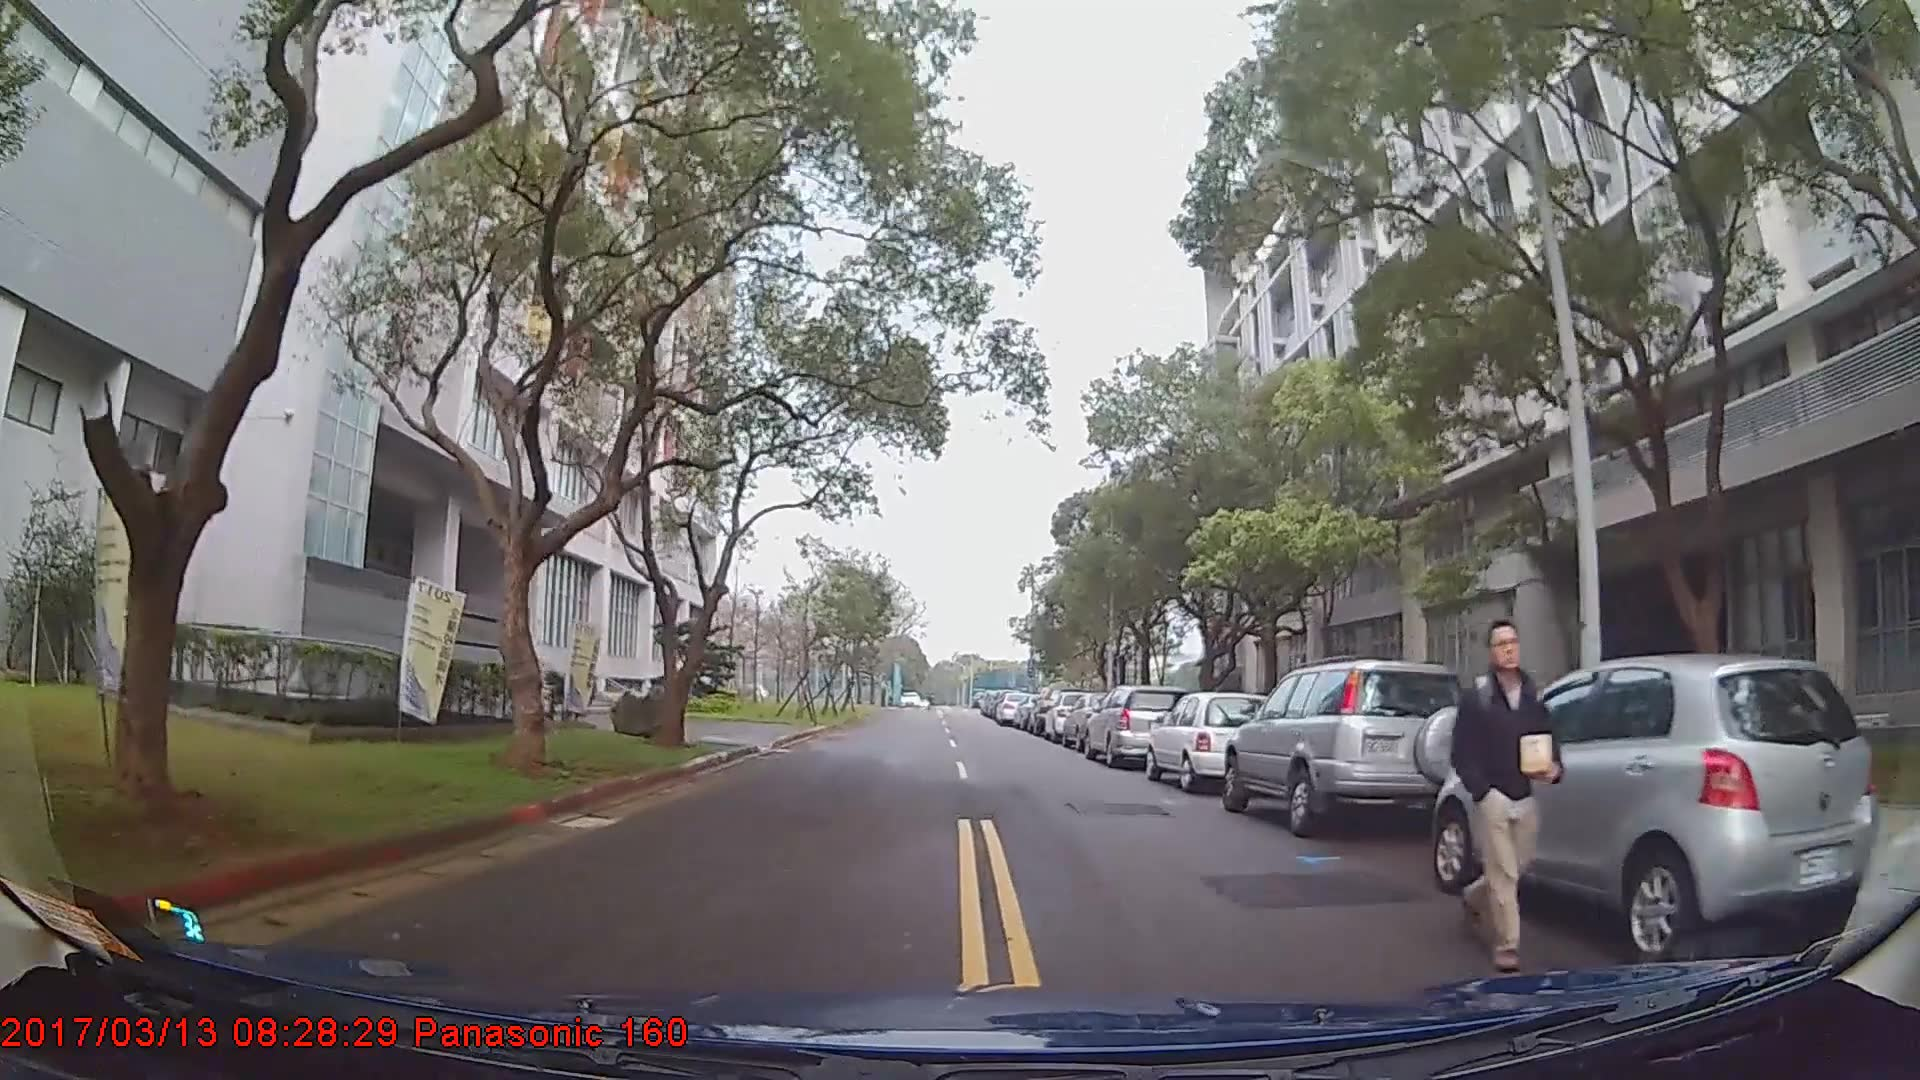pedestrian: (1458, 611, 1580, 963)
vehicle: (1430, 651, 1876, 966), (1220, 655, 1479, 835), (1142, 689, 1277, 793), (1082, 682, 1191, 767), (995, 688, 1035, 727)
